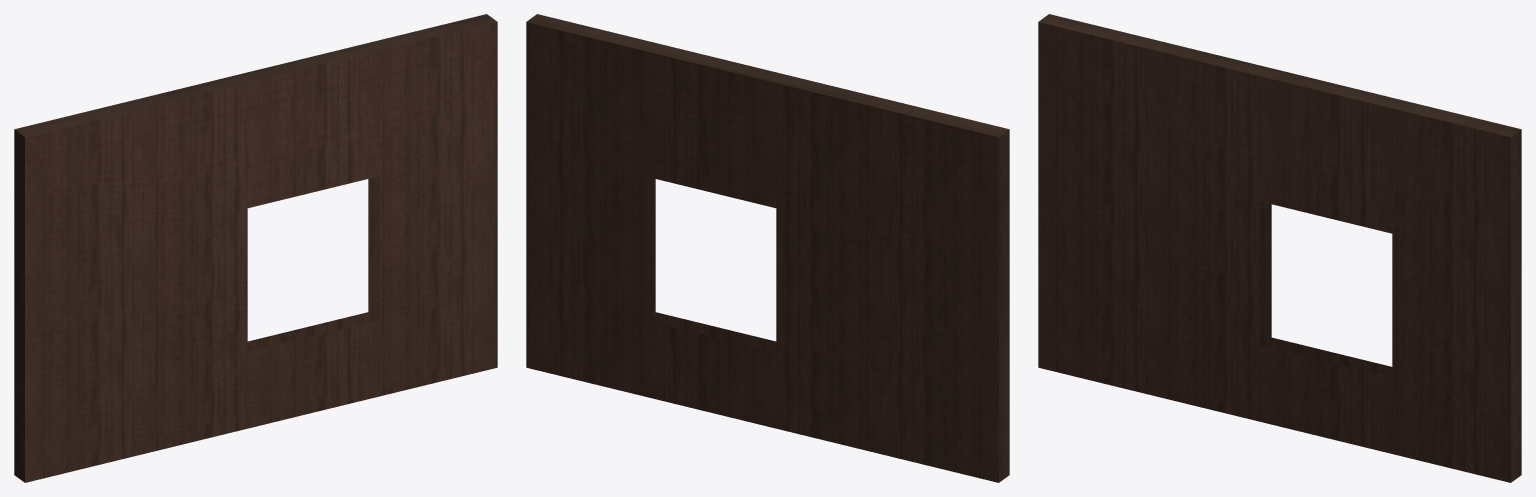
Rendered from BgMD_Tanihira_MobRoomback_0301.fbx.
The picture shows the model from 3 angles, left to right: view 1: azimuth 30°, elevation 25°; view 2: azimuth 150°, elevation 25°; view 3: azimuth 330°, elevation 25°; orthographic projection.
Visible parts, largest first — view 1: pCube54; view 2: pCube54; view 3: pCube54.
Part boxes in pixels (x1=…): pCube54: x1=14, y1=14, x2=497, y2=482; pCube54: x1=526, y1=14, x2=1009, y2=482; pCube54: x1=1038, y1=14, x2=1521, y2=482.
Bounding box in the file's own units: 500 × 349 × 20.
